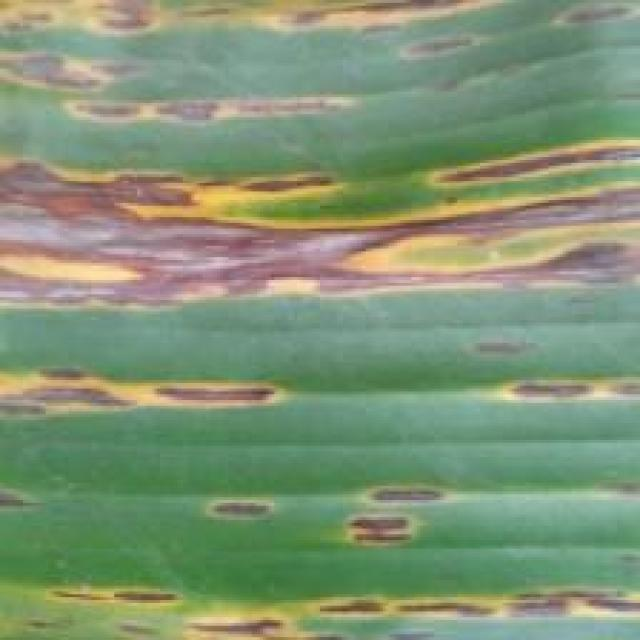Early_leaf_spot: (4, 137, 639, 331), (0, 0, 637, 91), (0, 41, 379, 143), (135, 585, 640, 640), (310, 436, 468, 580), (0, 346, 269, 430), (430, 330, 636, 422), (19, 556, 186, 624), (185, 475, 296, 533), (0, 476, 58, 538)
